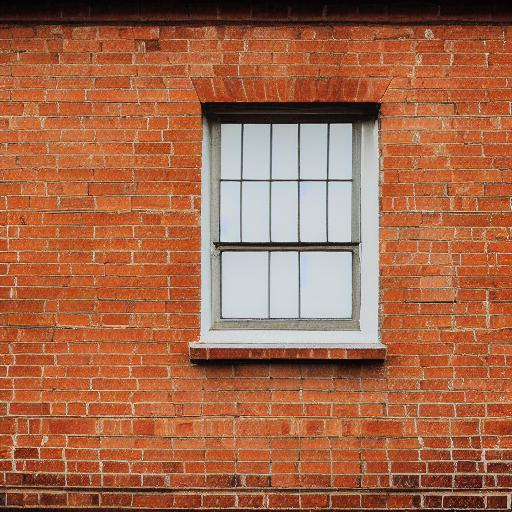Window: (187, 101, 391, 363)
